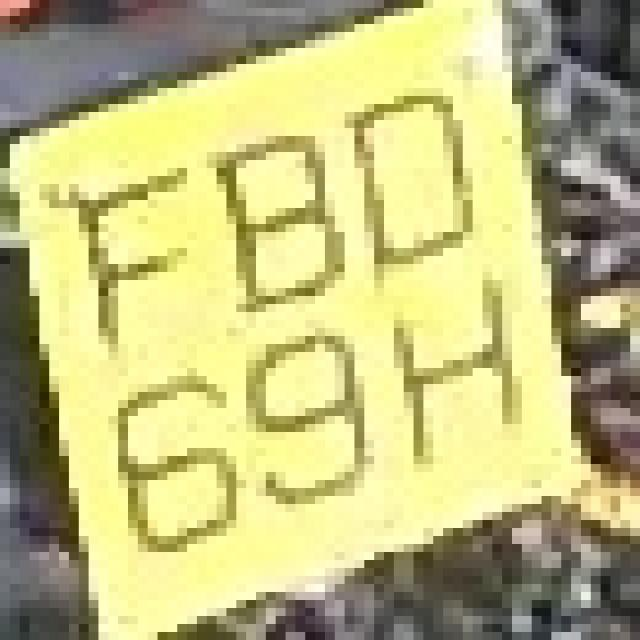6: (79, 352, 266, 568)
9: (216, 296, 394, 520)
B: (178, 112, 354, 344)
D: (315, 72, 492, 280)
F: (39, 136, 197, 344)
H: (344, 264, 532, 472)
